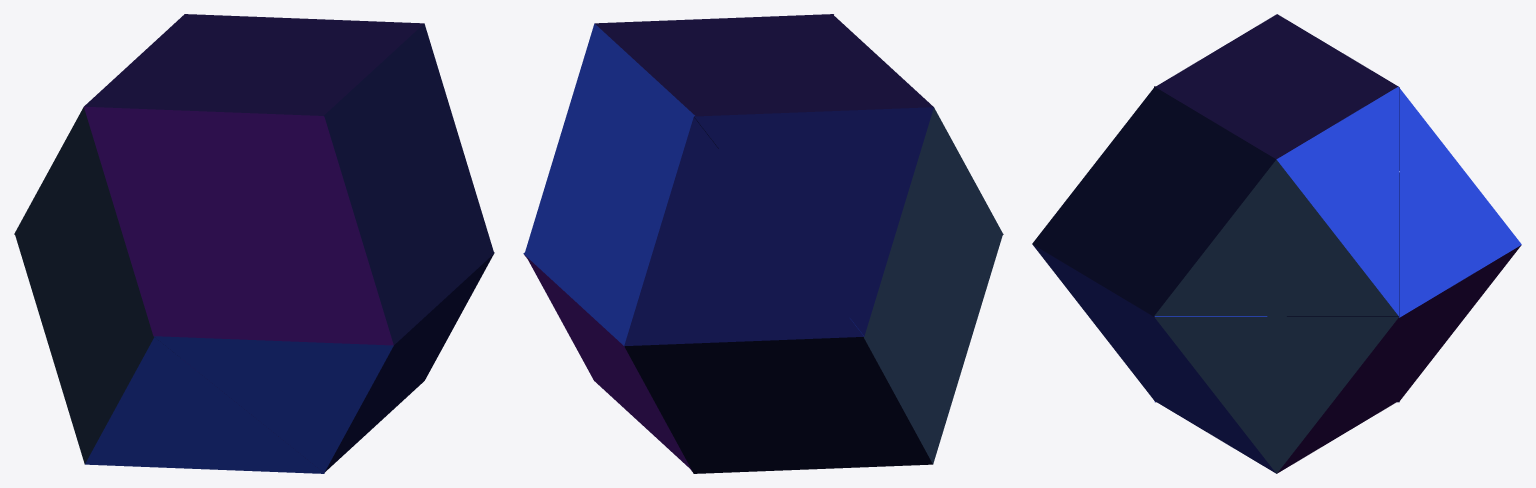
The model's file is dodeca2.glb.
3 views of the same model, side by side, from view 1: azimuth 30°, elevation 25°; view 2: azimuth 150°, elevation 25°; view 3: azimuth 270°, elevation 25° (orthographic). The views are drawn at different scales.
Visible parts, largest first — view 1: Cube; view 2: Cube; view 3: Cube.
Boxes of the visible parts, x1=… form: Cube: x1=14, y1=14, x2=494, y2=473; Cube: x1=523, y1=14, x2=1003, y2=473; Cube: x1=1032, y1=14, x2=1521, y2=473.
Size of the model in its own units: 2.83 by 2.84 by 4.
